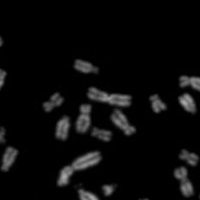chromosome: (58, 151, 101, 187), (86, 87, 133, 106), (110, 108, 135, 136), (174, 166, 194, 197), (0, 146, 19, 171), (76, 104, 91, 133), (43, 92, 63, 111), (179, 147, 199, 166), (73, 59, 98, 74), (56, 114, 70, 140), (149, 93, 167, 113), (179, 94, 197, 114), (178, 76, 200, 92), (92, 127, 111, 142), (78, 188, 100, 200), (102, 184, 119, 196), (0, 68, 5, 107), (0, 126, 6, 143), (182, 195, 200, 200), (0, 35, 2, 58), (137, 199, 152, 200)
